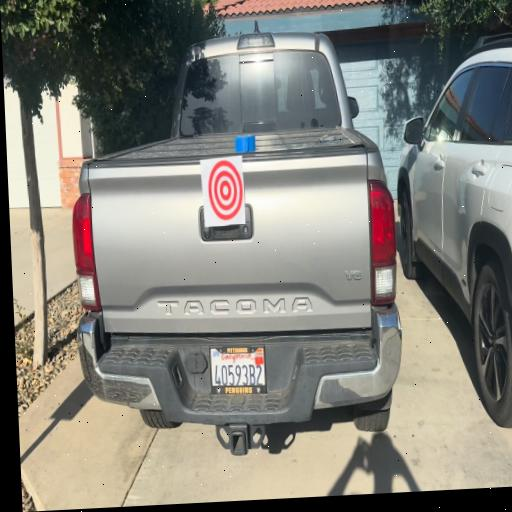bullseye: (205, 157, 246, 226)
